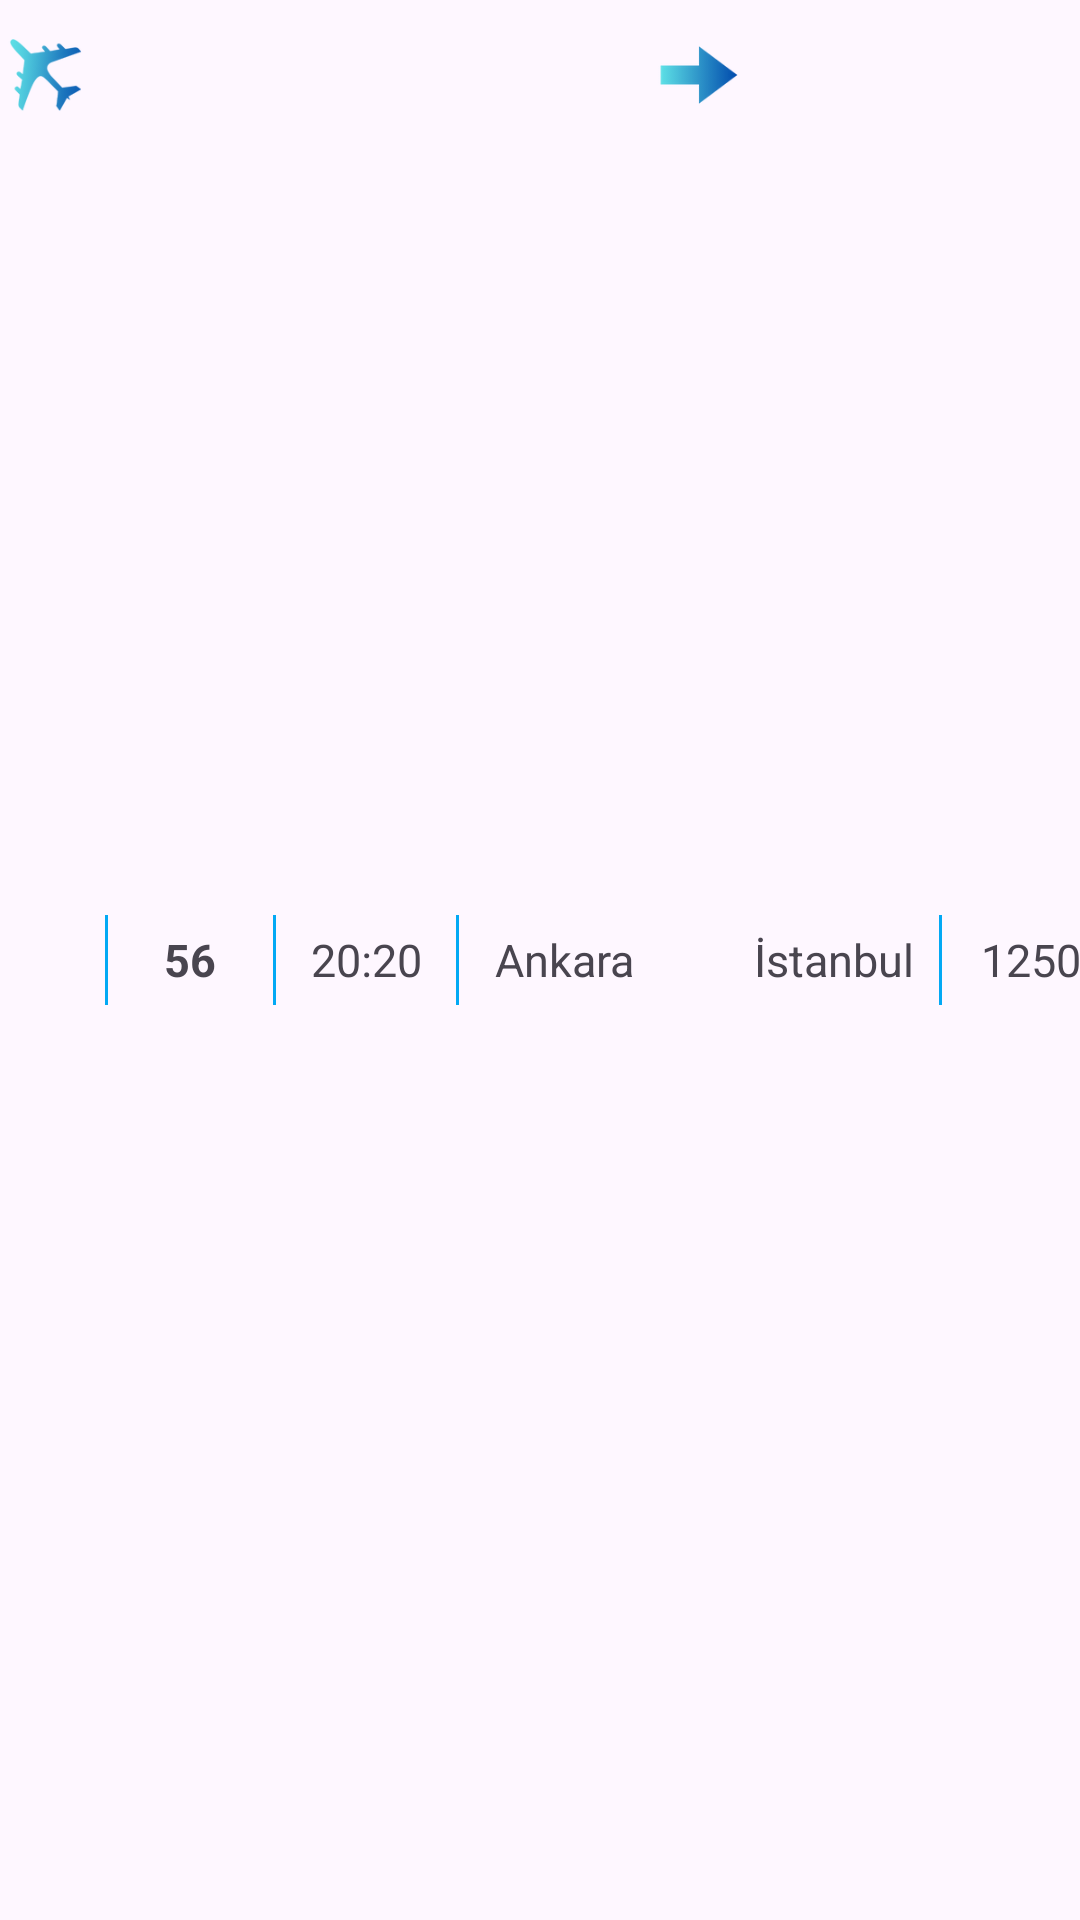

Where icons sit on this 1080 x 1920 app screen, as bbox=[x1, y1, x2, y2]:
plane degrade: bbox=[10, 39, 81, 111]
